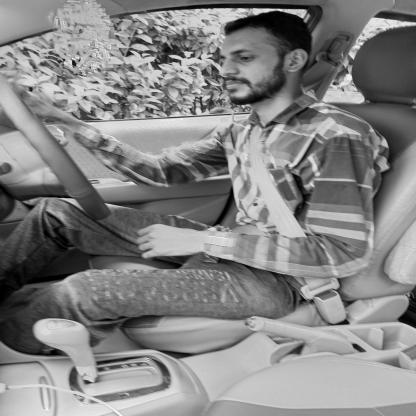seatbelt: (191, 14, 352, 209)
